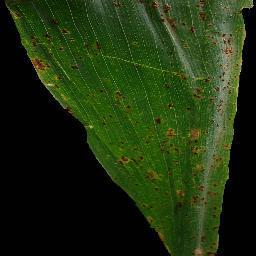Corn_Common_Rust: (147, 0, 255, 256), (88, 0, 146, 217), (2, 0, 88, 132)
